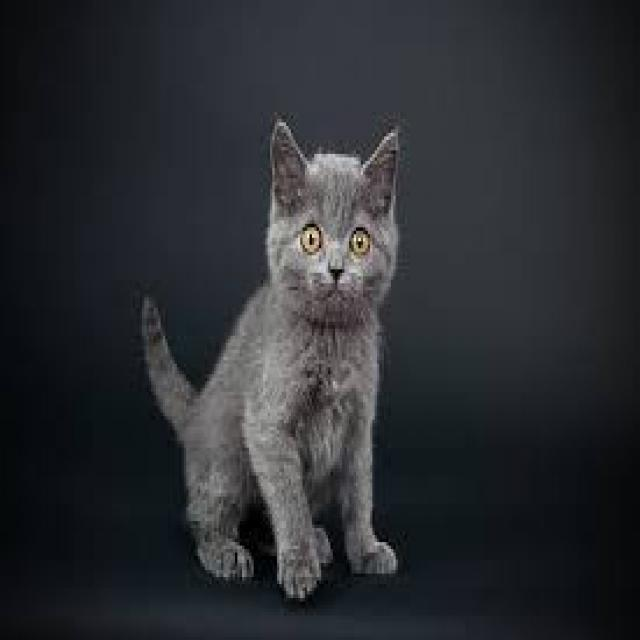Cat: (136, 111, 409, 607)
